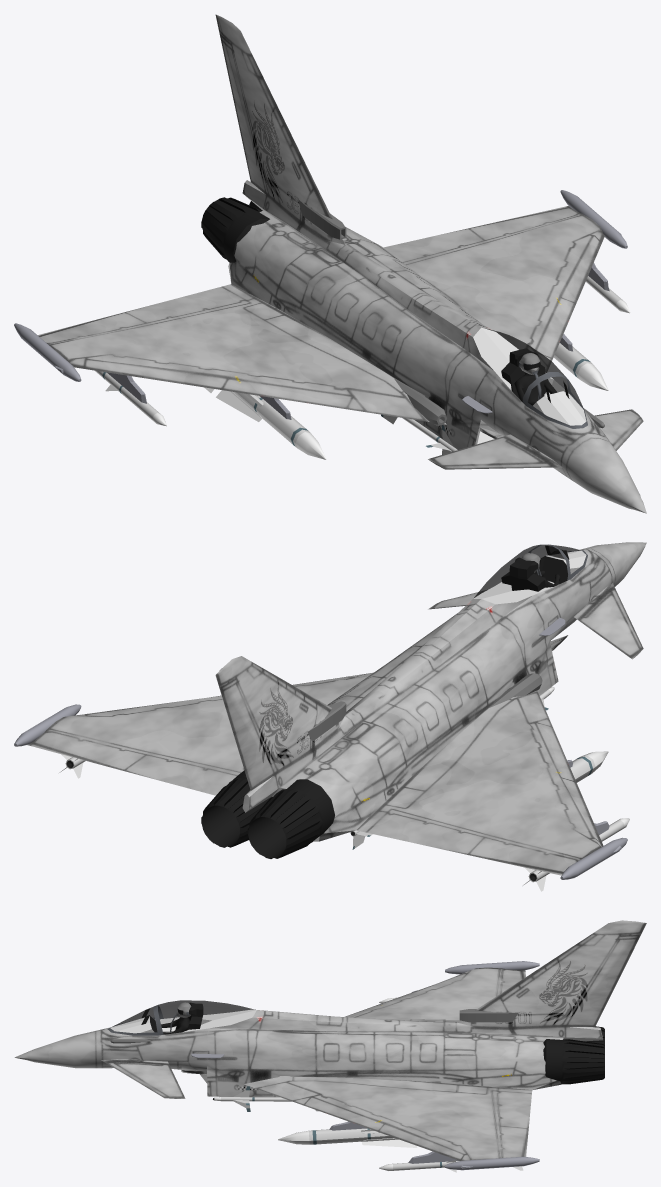
Rendered from Eurofighter_002.fbx.
The picture shows the model from 3 angles, top to bottom: view 1: azimuth 30°, elevation 25°; view 2: azimuth 150°, elevation 25°; view 3: azimuth 270°, elevation 25°; orthographic projection. The views are drawn at different scales.
Visible parts, largest first — view 1: Eurofighter 3, Eurofighter 1 adds 2.002, AIM-54 Phoenix.002, Eurofighter 1 interior.002, Eurofighter 1 adds 1.002, Eurofighter 1 cockpit.002, AIM-120 Amraam.002, Pilot.002; view 2: Eurofighter 3, Eurofighter 1 adds 2.002, Eurofighter 1 interior.002, Eurofighter 1 adds 1.002, Eurofighter 1 cockpit.002, seat.002, AIM-120 Amraam.002, AIM-54 Phoenix.002; view 3: Eurofighter 3, Eurofighter 1 adds 2.002, AIM-54 Phoenix.002, Eurofighter 1 interior.002, Eurofighter 1 cockpit.002, Eurofighter 1 adds 1.002, AIM-120 Amraam.002, AIM-9 Sidewinder.002, Pilot.002.
Part boxes in pixels (bbox=[...]): Eurofighter 3: bbox=[38, 14, 646, 513]; Eurofighter 1 adds 2.002: bbox=[14, 190, 627, 419]; AIM-54 Phoenix.002: bbox=[204, 343, 608, 459]; Eurofighter 1 interior.002: bbox=[473, 327, 586, 425]; Eurofighter 1 adds 1.002: bbox=[298, 199, 604, 428]; Eurofighter 1 cockpit.002: bbox=[485, 328, 587, 428]; AIM-120 Amraam.002: bbox=[95, 276, 629, 426]; Pilot.002: bbox=[514, 353, 557, 405]; Eurofighter 3: bbox=[27, 542, 646, 875]; Eurofighter 1 adds 2.002: bbox=[14, 617, 627, 879]; Eurofighter 1 interior.002: bbox=[473, 545, 586, 604]; Eurofighter 1 adds 1.002: bbox=[307, 673, 542, 741]; Eurofighter 1 cockpit.002: bbox=[473, 544, 587, 598]; seat.002: bbox=[501, 557, 545, 591]; AIM-120 Amraam.002: bbox=[59, 754, 629, 891]; AIM-54 Phoenix.002: bbox=[570, 751, 608, 782]; Eurofighter 3: bbox=[14, 920, 646, 1160]; Eurofighter 1 adds 2.002: bbox=[191, 961, 604, 1170]; AIM-54 Phoenix.002: bbox=[278, 1128, 417, 1147]; Eurofighter 1 interior.002: bbox=[110, 1008, 256, 1033]; Eurofighter 1 cockpit.002: bbox=[107, 1000, 255, 1035]; Eurofighter 1 adds 1.002: bbox=[110, 1009, 518, 1043]; AIM-120 Amraam.002: bbox=[379, 997, 523, 1172]; AIM-9 Sidewinder.002: bbox=[213, 1086, 318, 1111]; Pilot.002: bbox=[155, 1002, 191, 1034].
Size of the model in its own units: 1183 by 484 by 1577.
17 materials, 1 textured.
